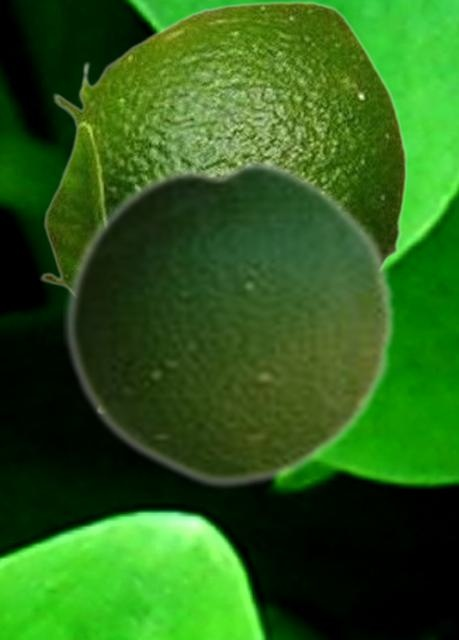dalandan: (63, 154, 396, 490), (38, 0, 407, 289)
